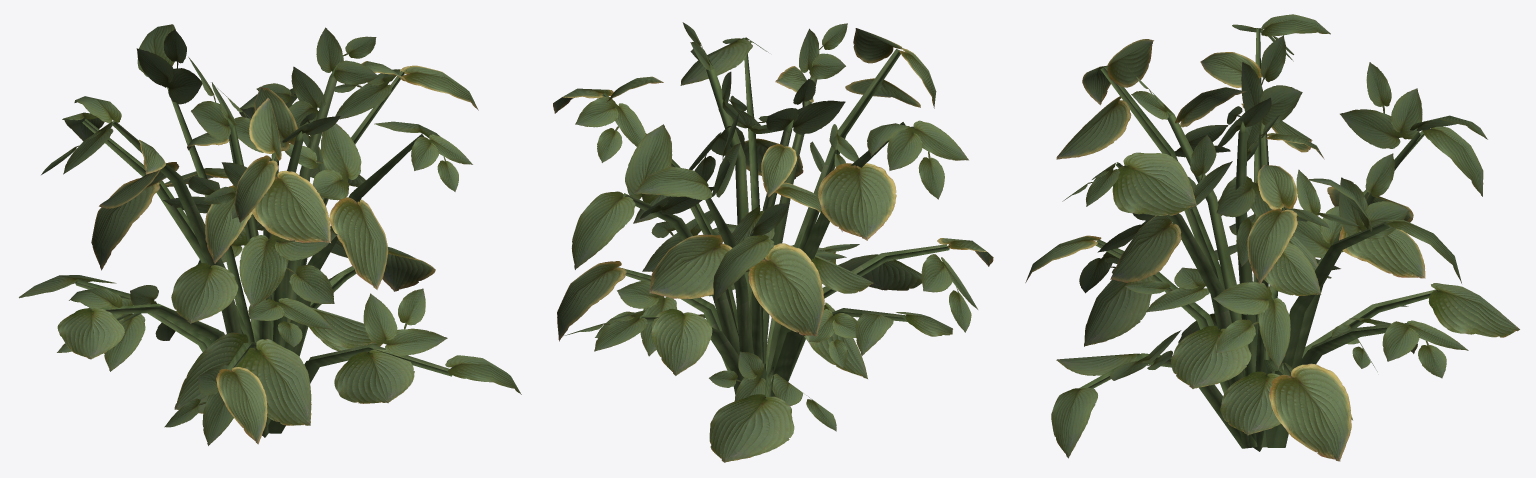
File: Plant-3.fbx
3 renders of one model, left to right at view 1: azimuth 30°, elevation 25°; view 2: azimuth 150°, elevation 25°; view 3: azimuth 270°, elevation 25°, orthographic. The views are drawn at different scales.
Parts seen in each view (by area): view 1: medium_plant_02; view 2: medium_plant_02; view 3: medium_plant_02.
Part boxes in pixels (x1,y1,x2,y2): medium_plant_02: [19, 24, 521, 445]; medium_plant_02: [553, 22, 993, 462]; medium_plant_02: [1025, 14, 1519, 461].
Bounding box in the file's own units: 3.36 × 2.84 × 3.28.
